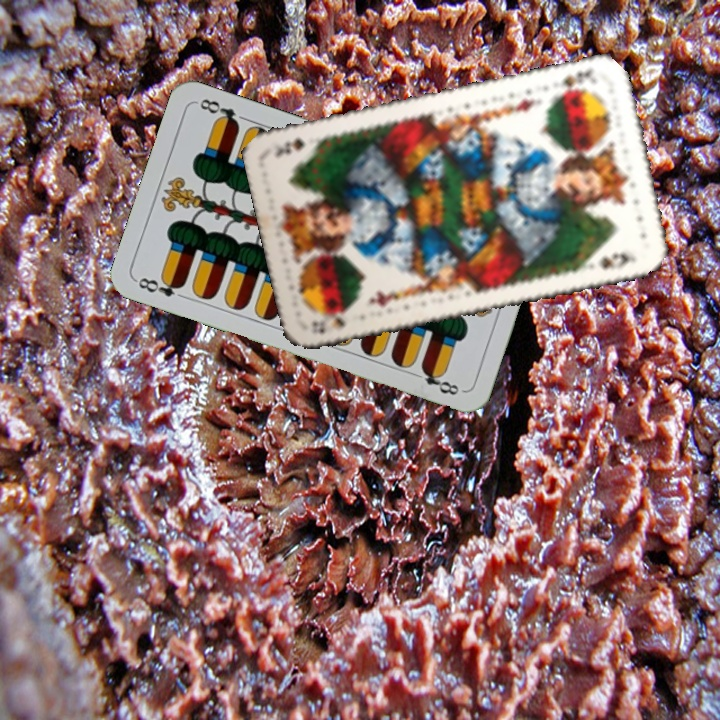E8: (132, 272, 188, 300)
SK: (551, 64, 596, 98), (307, 308, 350, 337)
